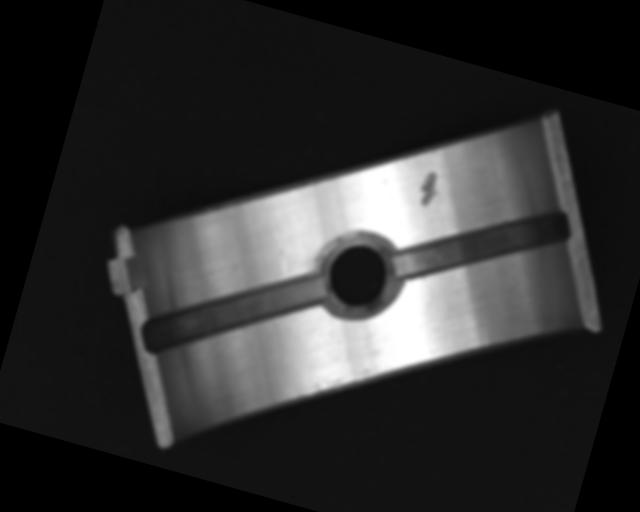bruise: (414, 167, 446, 211)
gap: (138, 232, 327, 394), (389, 169, 575, 316)
hole: (312, 223, 403, 323)
nick: (263, 223, 300, 277)
